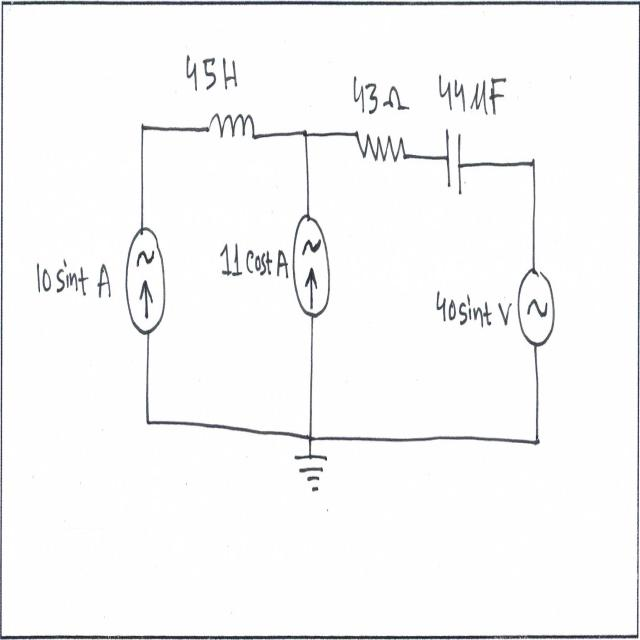ac_current: (516, 262, 555, 354)
capacitor: (442, 122, 466, 196)
current_source: (122, 213, 168, 342), (290, 204, 333, 326)
ground: (290, 447, 334, 500)
inductor: (202, 106, 260, 152)
resistor: (349, 122, 414, 173)
